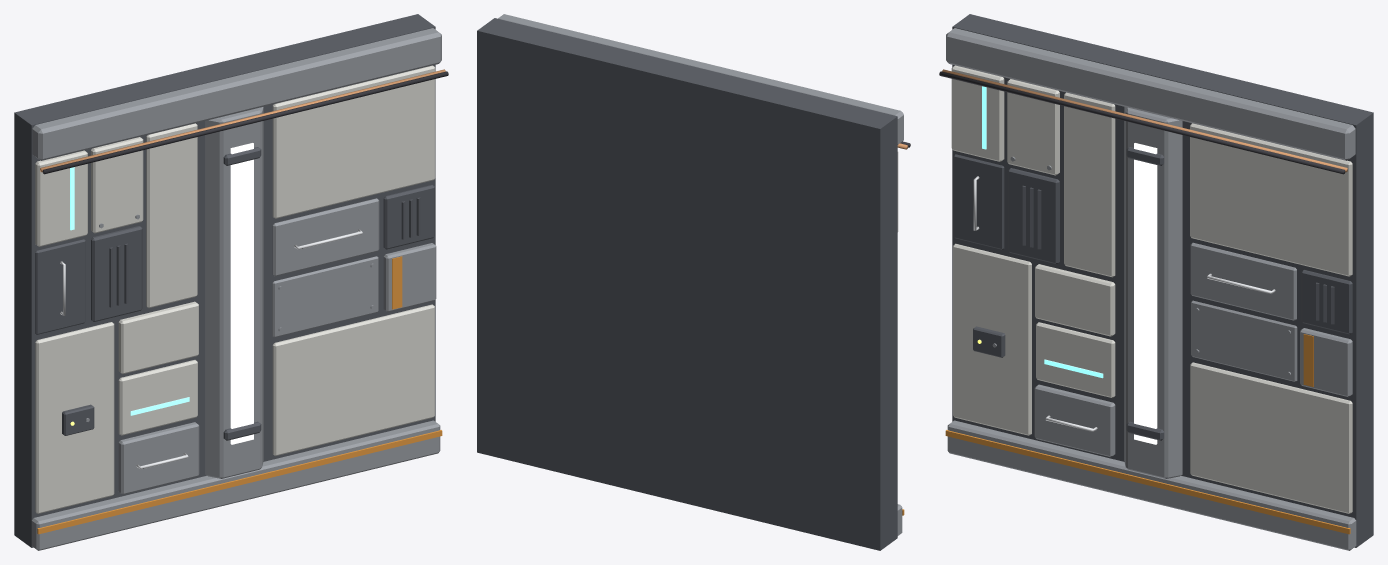
File: wall_light.glb
3 renders of one model, left to right at view 1: azimuth 30°, elevation 25°; view 2: azimuth 150°, elevation 25°; view 3: azimuth 330°, elevation 25°, orthographic.
Parts seen in each view (by area): view 1: wall_light; view 2: wall_light; view 3: wall_light.
Boxes of the visible parts, <box> form: wall_light: <box>14,14,448,550</box>; wall_light: <box>477,14,910,550</box>; wall_light: <box>939,14,1373,550</box>.
Size of the model in its own units: 4 by 4 by 0.525.
